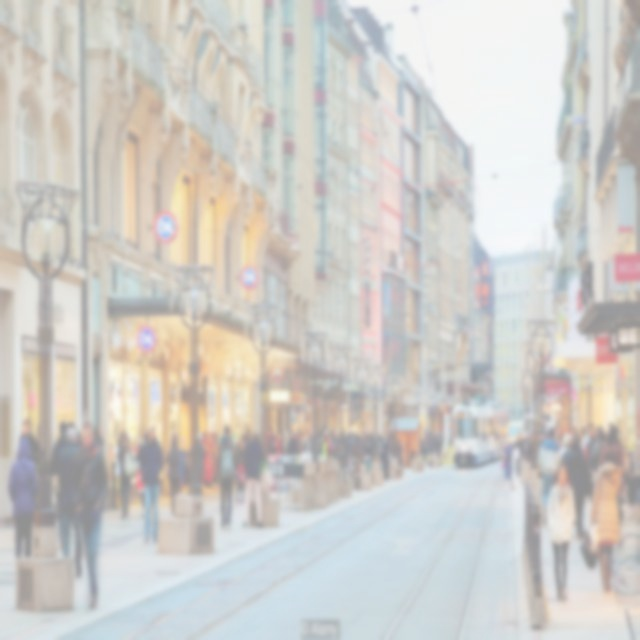pessoa: (71, 419, 111, 612), (590, 449, 624, 594), (54, 424, 84, 582), (544, 463, 576, 605), (7, 436, 39, 560), (138, 425, 166, 547), (598, 425, 626, 527), (241, 431, 267, 529), (568, 434, 591, 540), (216, 423, 237, 534), (20, 418, 44, 511), (116, 428, 137, 529), (538, 427, 562, 513), (164, 431, 182, 520), (135, 432, 153, 519), (50, 418, 70, 481), (117, 429, 132, 512), (584, 422, 596, 502), (200, 431, 214, 489), (632, 428, 640, 526), (192, 430, 206, 484), (501, 446, 517, 492), (590, 427, 606, 473), (273, 432, 285, 492), (625, 466, 637, 522), (379, 430, 391, 482), (244, 428, 253, 496), (234, 458, 246, 505), (557, 432, 573, 466), (208, 434, 218, 484), (337, 427, 347, 473), (512, 434, 522, 480), (523, 436, 533, 481), (322, 428, 334, 462), (234, 439, 242, 486), (266, 425, 277, 456), (580, 420, 590, 454), (420, 430, 430, 463), (286, 429, 298, 456), (532, 428, 548, 446), (294, 428, 304, 456), (300, 429, 312, 452), (346, 430, 356, 456), (94, 423, 105, 446), (396, 437, 404, 467), (328, 426, 340, 446), (428, 430, 436, 460), (604, 418, 614, 442), (554, 423, 563, 449), (416, 428, 424, 457), (364, 428, 374, 451), (456, 426, 472, 439), (364, 451, 372, 474), (390, 438, 398, 460), (436, 432, 442, 459), (240, 433, 248, 453), (520, 432, 526, 455), (319, 425, 326, 439), (376, 431, 384, 443), (448, 430, 454, 446), (353, 431, 361, 441), (570, 426, 576, 439), (517, 424, 521, 436), (346, 431, 350, 439), (424, 426, 428, 432)
